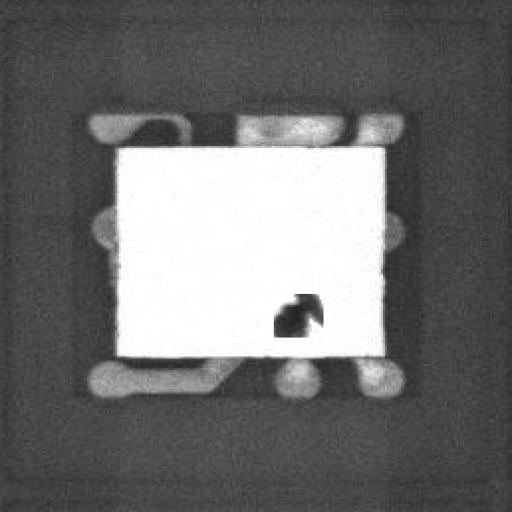DIE_INK: (272, 292, 325, 338)
